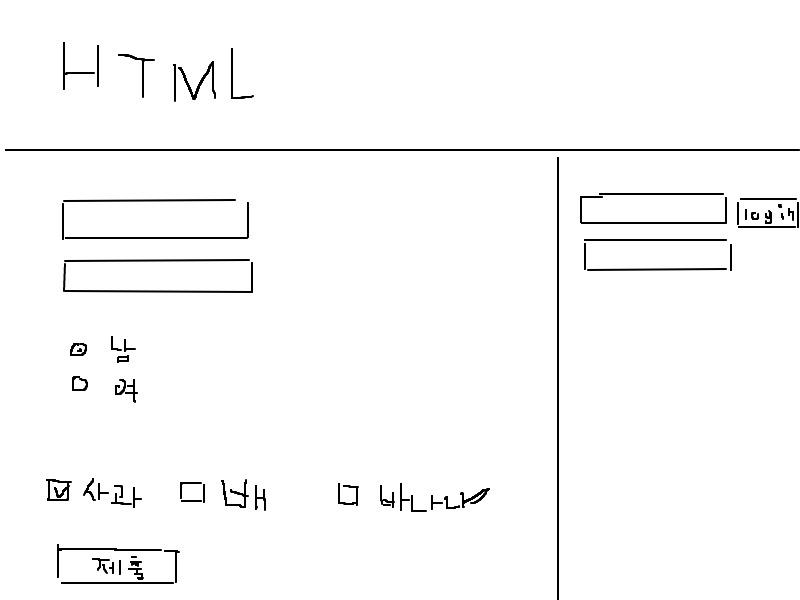button: (52, 542, 179, 585), (735, 197, 799, 229)
checkBoxH: (41, 460, 501, 525)
editText: (59, 197, 253, 242), (58, 254, 256, 298), (578, 236, 736, 275), (573, 190, 731, 226)
radioButtonV: (57, 327, 151, 412)
